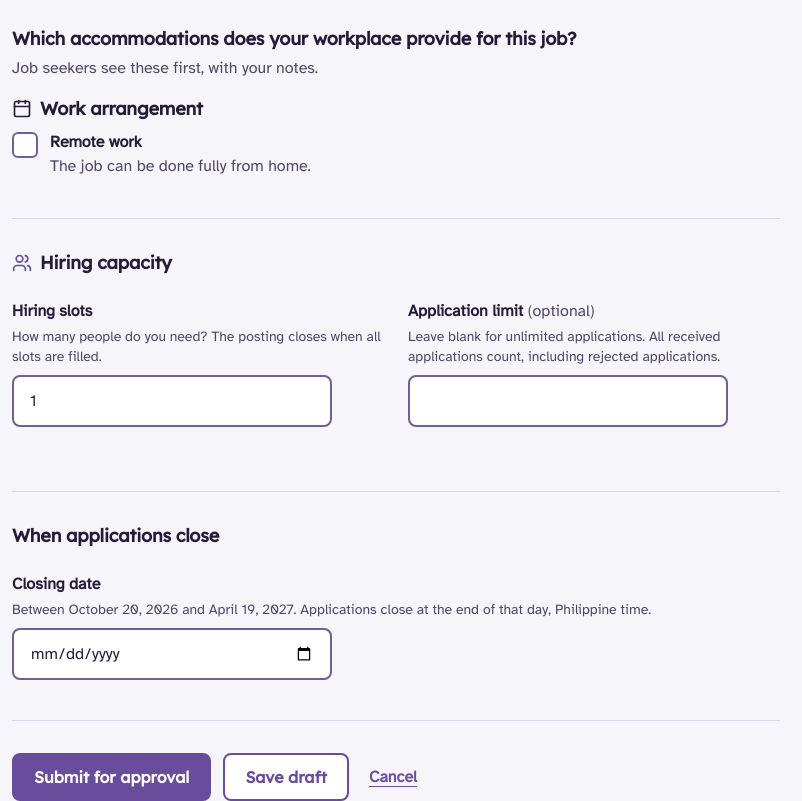
JobPostingFormPage › lists what is missing when submitting an empty posting
(page scrolled)
Click the button "Submit for approval": click(112, 777) x1=12 y1=753 x2=211 y2=800
(page scrolled)
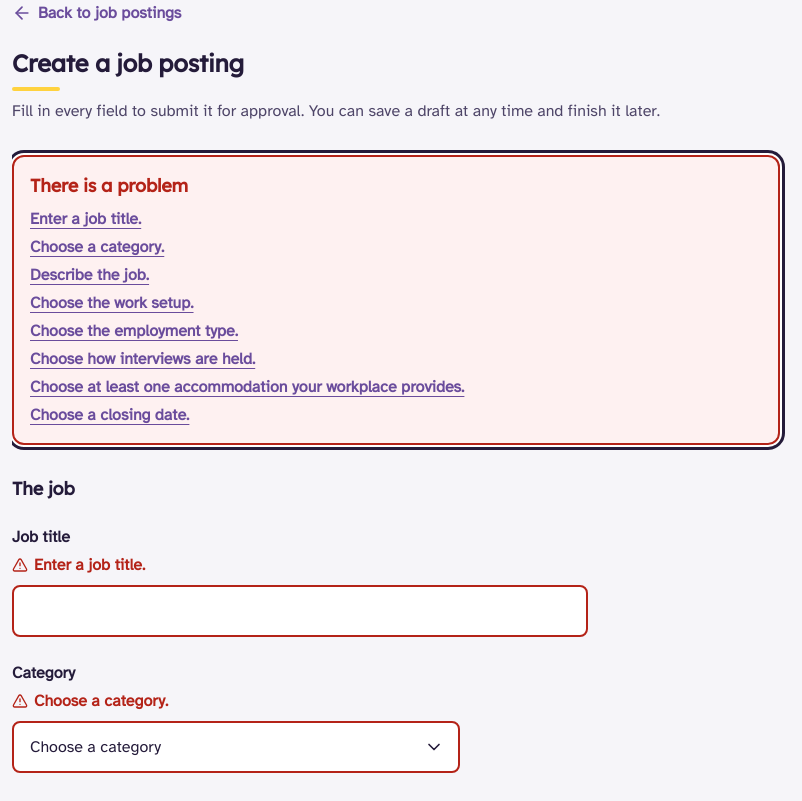
Check: the link "Enter a job title." is shown, box x1=30 y1=209 x2=141 y2=229
Check: the link "Choose at least one accommodation your workplace provides." is shown, box x1=30 y1=377 x2=464 y2=397
